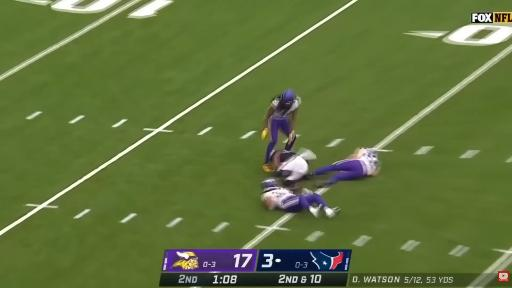Helmet: (279, 90, 295, 109), (261, 178, 281, 192), (269, 149, 283, 159), (366, 147, 377, 153)
Jersey: (262, 188, 299, 209), (271, 95, 301, 118), (358, 148, 380, 175), (279, 151, 296, 163)
Player: (262, 90, 301, 171), (262, 179, 339, 217), (305, 148, 380, 187), (271, 149, 315, 192)
